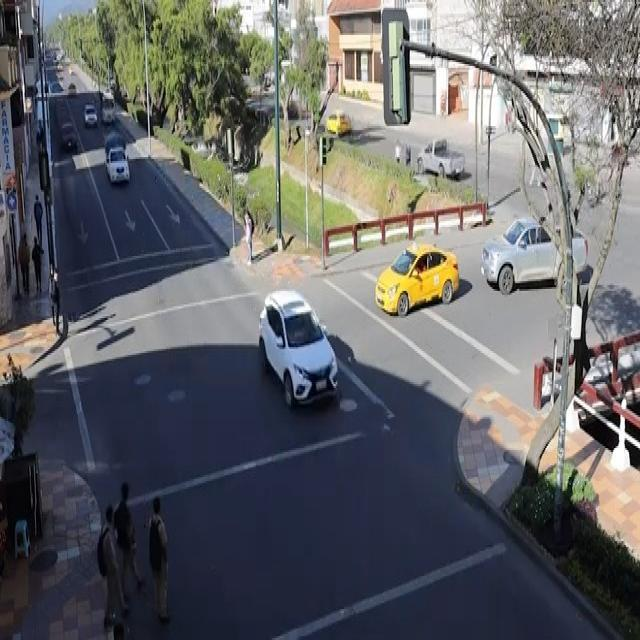CMT: (483, 220, 592, 295)
